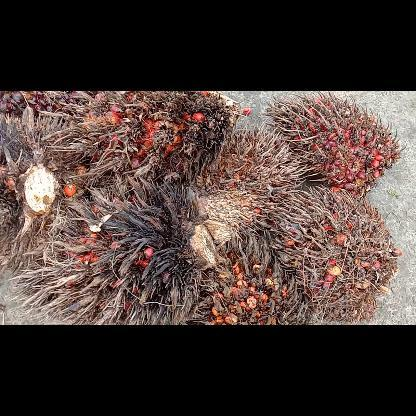Terlalu masak: (10, 174, 230, 324), (272, 186, 402, 324), (46, 91, 240, 179), (264, 91, 406, 195), (191, 119, 313, 237), (0, 114, 85, 267), (188, 234, 306, 324)
